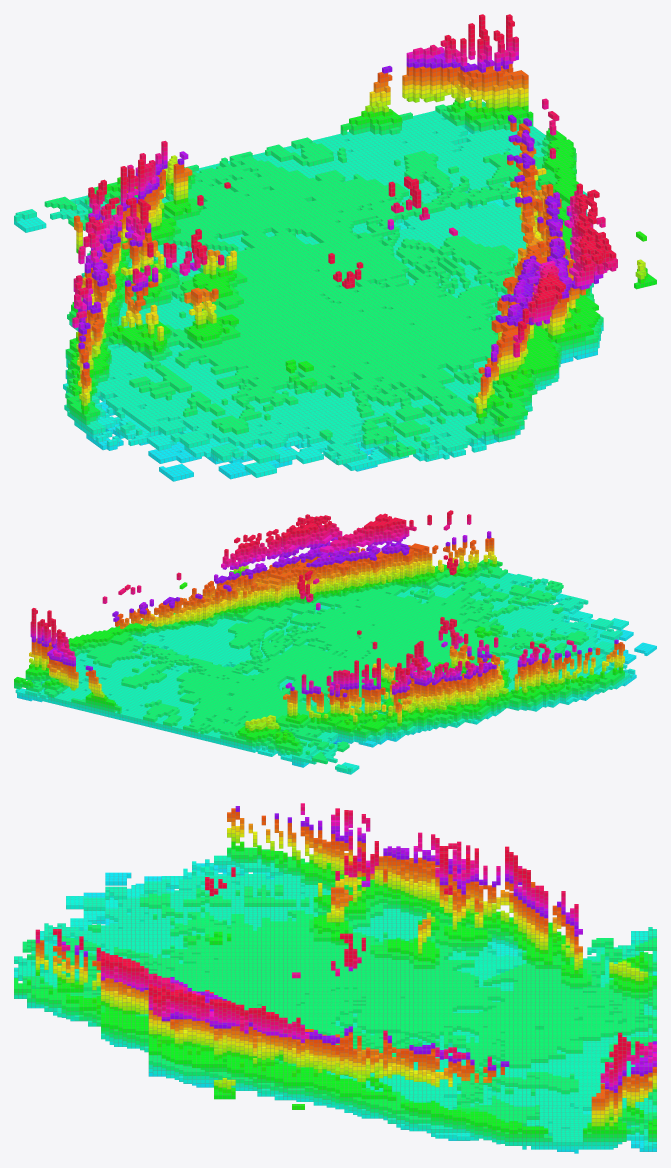
Rendered from scan-20261115T181241Z-d17a35.glb.
The picture shows the model from 3 angles, top to bottom: view 1: azimuth 30°, elevation 25°; view 2: azimuth 150°, elevation 25°; view 3: azimuth 270°, elevation 25°; orthographic projection. The views are drawn at different scales.
Parts seen in each view (by area): view 1: terrainx_mapa_slam; view 2: terrainx_mapa_slam; view 3: terrainx_mapa_slam.
Part boxes in pixels (x1,y1,x2,y2): terrainx_mapa_slam: (14,14,656,481); terrainx_mapa_slam: (14,510,656,774); terrainx_mapa_slam: (14,803,656,1153).
Size of the model in its own units: 7.8 by 1.5 by 7.4.
1 material, 1 textured.
